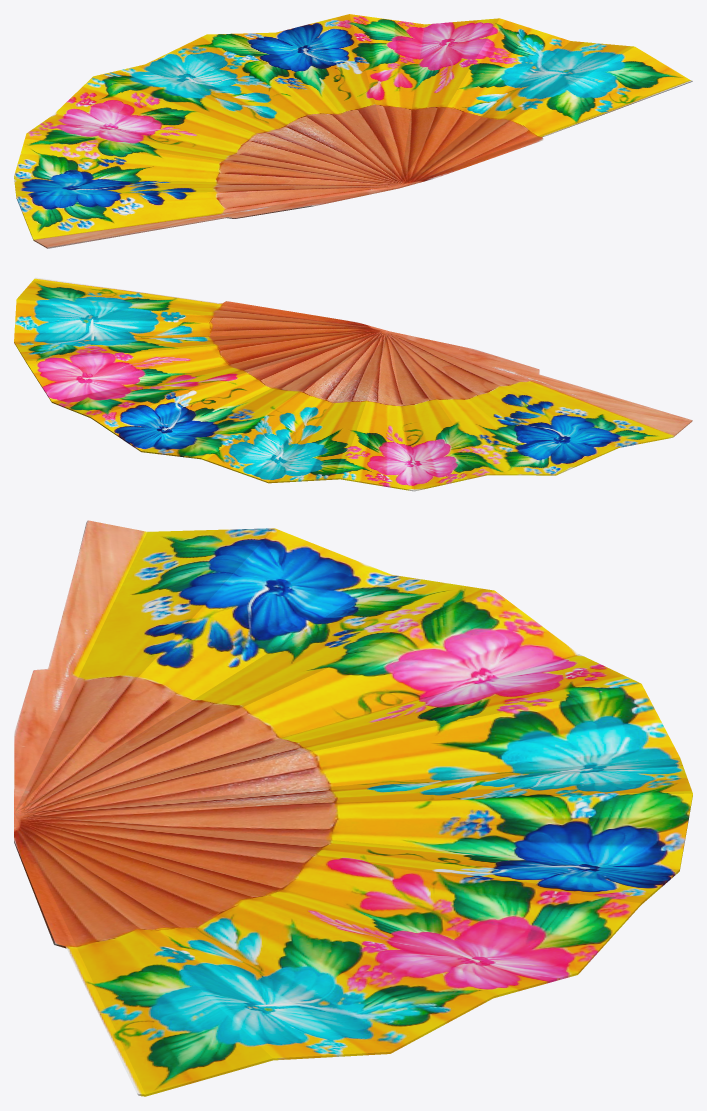
Rendered from abanico.glb.
The picture shows the model from 3 angles, top to bottom: view 1: azimuth 30°, elevation 25°; view 2: azimuth 150°, elevation 25°; view 3: azimuth 270°, elevation 25°; orthographic projection. The views are drawn at different scales.
Visible parts, largest first — view 1: Circle; view 2: Circle; view 3: Circle.
Boxes of the visible parts, x1,y1,x2,y2 form: Circle: (14, 14, 692, 248); Circle: (14, 277, 692, 491); Circle: (14, 520, 692, 1096).
Bounding box in the file's own units: 0.765 × 0.0139 × 0.388.
1 material, 1 textured.
